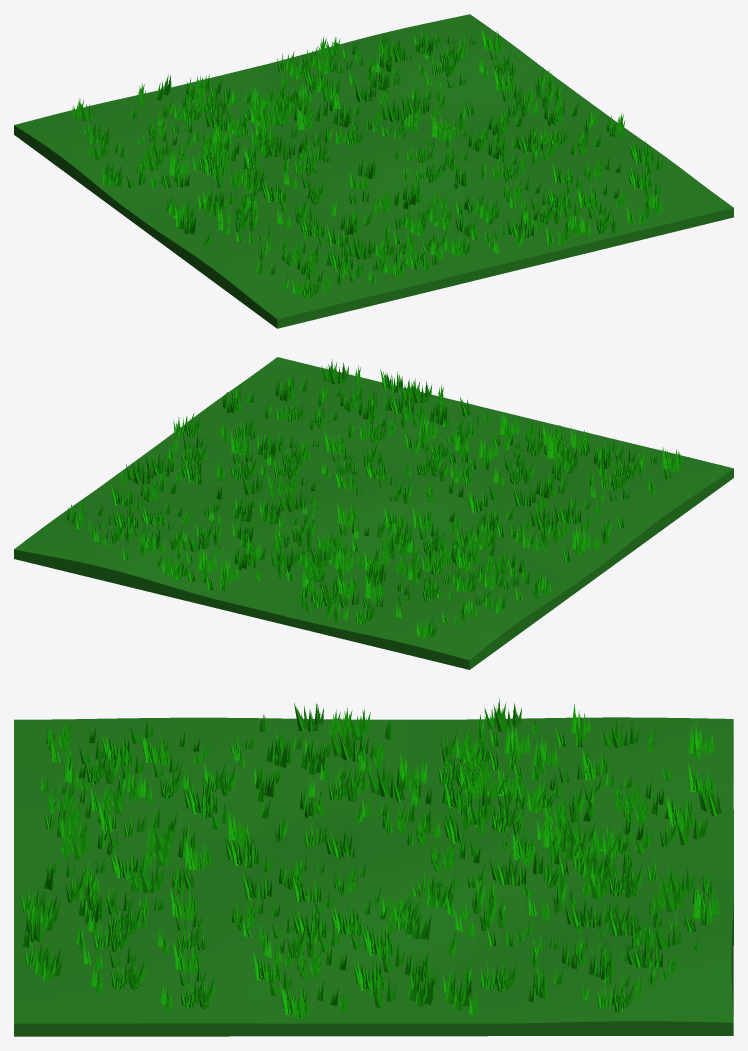
File: tile_plain_1.fbx
The picture shows the model from 3 angles, top to bottom: view 1: azimuth 30°, elevation 25°; view 2: azimuth 150°, elevation 25°; view 3: azimuth 270°, elevation 25°; orthographic projection. The views are drawn at different scales.
Visible parts, largest first — view 1: Cone.493; view 2: Cone.493; view 3: Cone.493.
Boxes of the visible parts, x1,y1,x2,y2 form: Cone.493: (14,14,733,328); Cone.493: (14,357,733,669); Cone.493: (14,698,733,1036).
Size of the model in its own units: 100 by 6.94 by 100.
